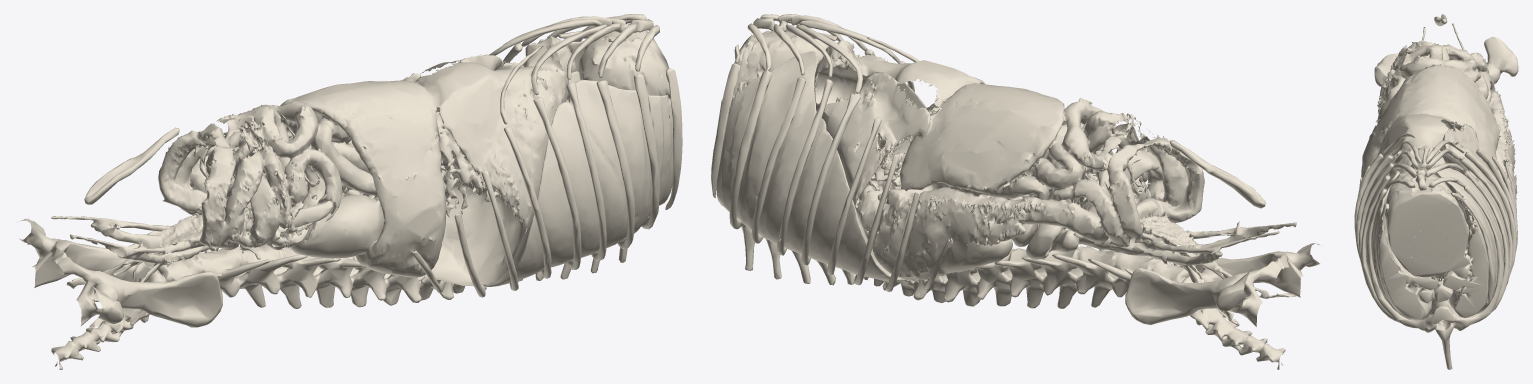
File: canine-abdomen-pixelbeaker-detail-2d7c5f9f3c03.glb
3 renders of one model, left to right at view 1: azimuth 30°, elevation 25°; view 2: azimuth 150°, elevation 25°; view 3: azimuth 270°, elevation 25°, orthographic. The views are drawn at different scales.
Parts seen in each view (by area): view 1: vascular-liver-pancreas, bones, intestines, lungs, vascular; view 2: vascular-liver-pancreas, bones, intestines, lungs, vascular; view 3: vascular-liver-pancreas, bones, lungs, intestines, vascular.
Part boxes in pixels (x1,y1,x2,y2): vascular-liver-pancreas: (160, 23, 670, 285); bones: (19, 14, 682, 369); intestines: (158, 101, 383, 262); lungs: (482, 41, 673, 286); vascular: (51, 37, 659, 327); vascular-liver-pancreas: (731, 30, 1211, 282); bones: (711, 14, 1320, 369); intestines: (858, 98, 1204, 259); lungs: (716, 51, 926, 281); vascular: (939, 221, 1301, 325); vascular-liver-pancreas: (1361, 42, 1517, 303); bones: (1354, 14, 1518, 369); lungs: (1365, 164, 1510, 320); intestines: (1376, 41, 1509, 178); vascular: (1390, 23, 1508, 277).
Bounding box in the file's own units: 2 × 0.8795 × 0.6518.
